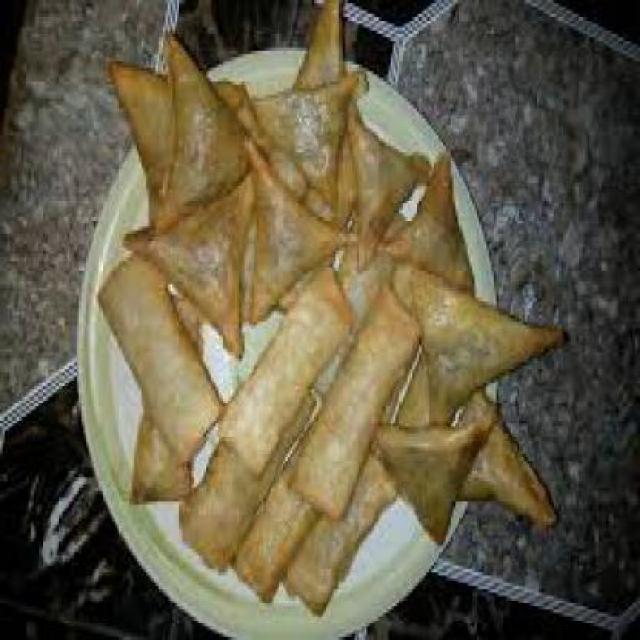samosa: (134, 16, 481, 295), (398, 290, 564, 524)
spring rolls: (121, 298, 408, 579)
